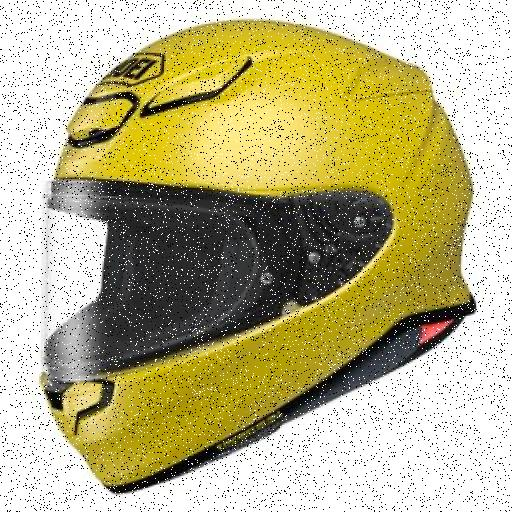Helmet: (34, 29, 490, 487)
